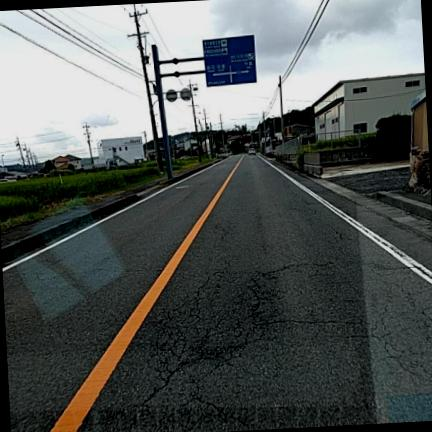Road: (3, 156, 431, 431)
